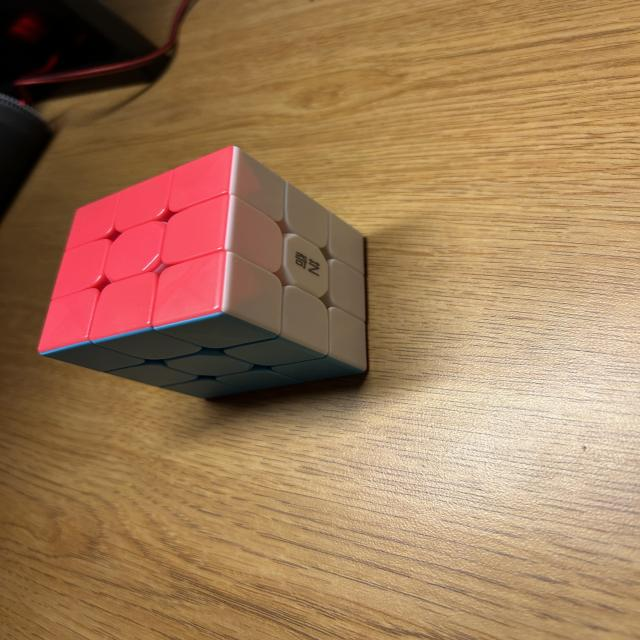Rubiks Cube: (39, 145, 366, 401)
